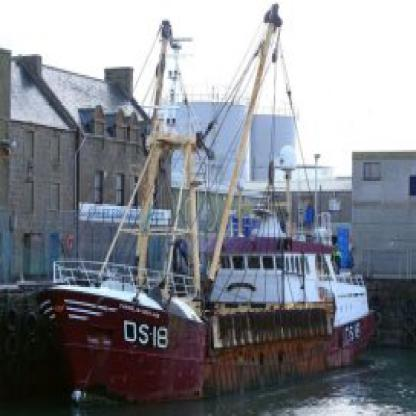fish-b: (32, 13, 387, 408)
